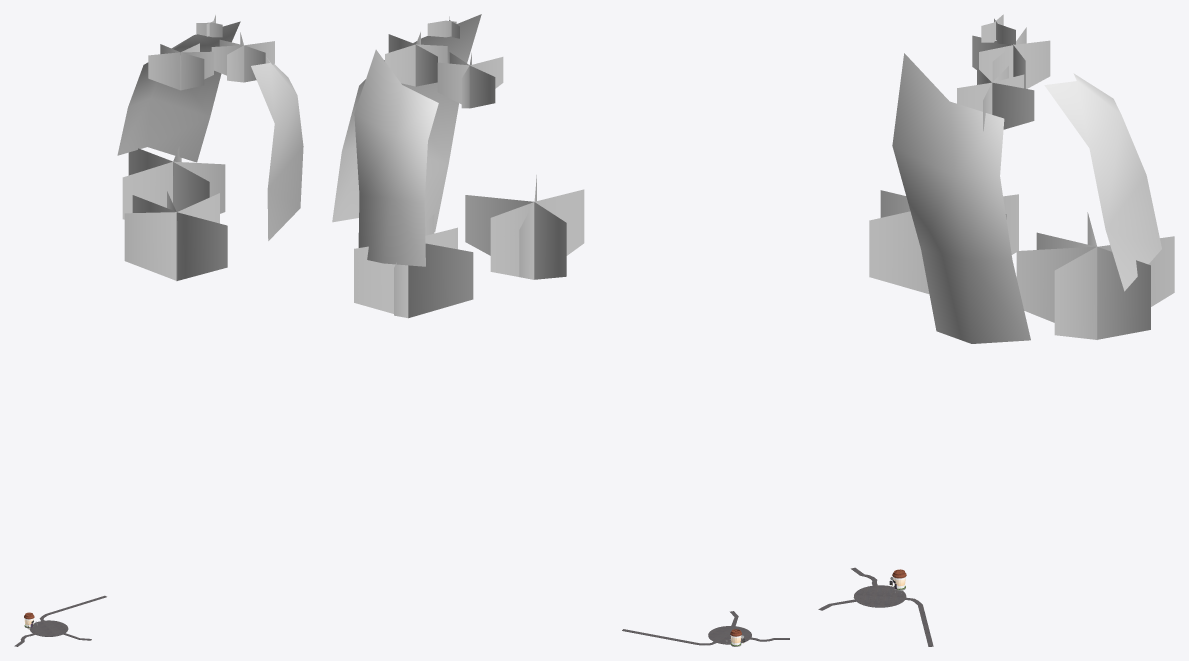
File: ville.glb
The picture shows the model from 3 angles, left to right: view 1: azimuth 30°, elevation 25°; view 2: azimuth 150°, elevation 25°; view 3: azimuth 270°, elevation 25°; orthographic projection. The views are drawn at different scales.
Parts seen in each view (by area): view 1: Plane015, Object008_Material #49_0, Object009_Material #49_0, Plane014, Plane016, Plane017, Circle.001; view 2: Object008_Material #49_0, Plane015, Plane014, Object009_Material #49_0, Plane016, Plane017, Circle.001; view 3: Object009_Material #49_0, Plane014, Object008_Material #49_0, Plane015, Plane016, Plane017, Circle.001.
Boxes of the visible parts, <box> form: Plane015: <box>124,191,227,280</box>; Object008_Material #49_0: <box>117,21,240,162</box>; Object009_Material #49_0: <box>251,58,303,240</box>; Plane014: <box>122,146,225,219</box>; Plane016: <box>148,43,213,90</box>; Plane017: <box>211,32,274,82</box>; Circle.001: <box>14,595,106,646</box>; Object008_Material #49_0: <box>354,49,438,266</box>; Plane015: <box>465,175,584,279</box>; Plane014: <box>354,214,473,318</box>; Object009_Material #49_0: <box>332,14,481,231</box>; Plane016: <box>437,52,503,108</box>; Plane017: <box>385,32,447,86</box>; Circle.001: <box>622,611,789,645</box>; Object009_Material #49_0: <box>892,53,1030,343</box>; Plane014: <box>1016,212,1174,339</box>; Object008_Material #49_0: <box>1044,73,1161,291</box>; Plane015: <box>869,190,1018,293</box>; Plane016: <box>972,27,1050,88</box>; Plane017: <box>957,66,1034,131</box>; Circle.001: <box>818,567,933,646</box>.
Size of the model in its own units: 258 by 381 by 173.
Materials: 22 (9 with a texture image).
